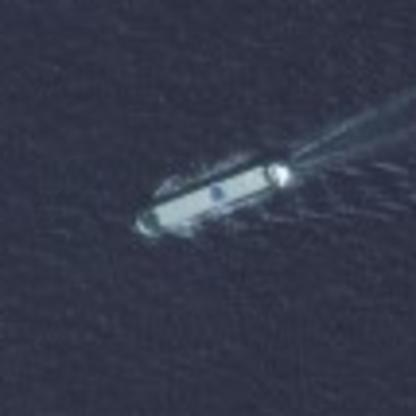ship: (126, 151, 298, 240)
